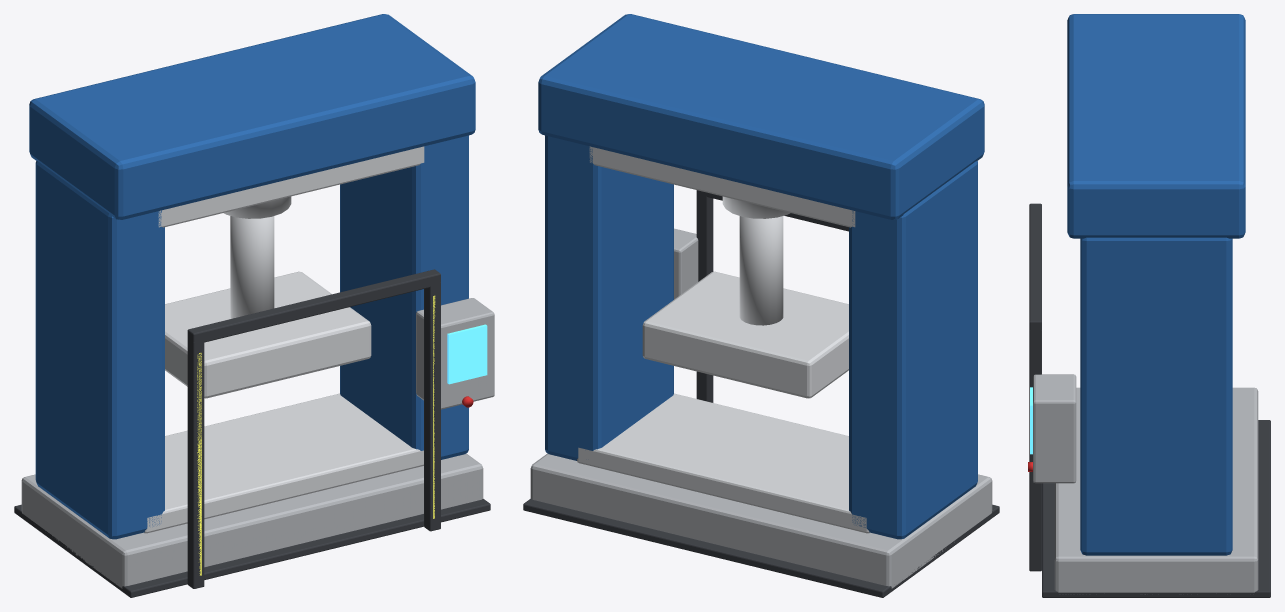
File: press.glb
3 views of the same model, side by side, from view 1: azimuth 30°, elevation 25°; view 2: azimuth 150°, elevation 25°; view 3: azimuth 270°, elevation 25° (orthographic). The views are drawn at different scales.
Visible parts, largest first — view 1: Cube; view 2: Cube; view 3: Cube.
Part boxes in pixels (x1,y1,x2,y2): Cube: (14,14,494,597); Cube: (523,14,999,597); Cube: (1028,14,1270,597).
Bounding box in the file's own units: 3.2 × 3.6 × 1.91.
